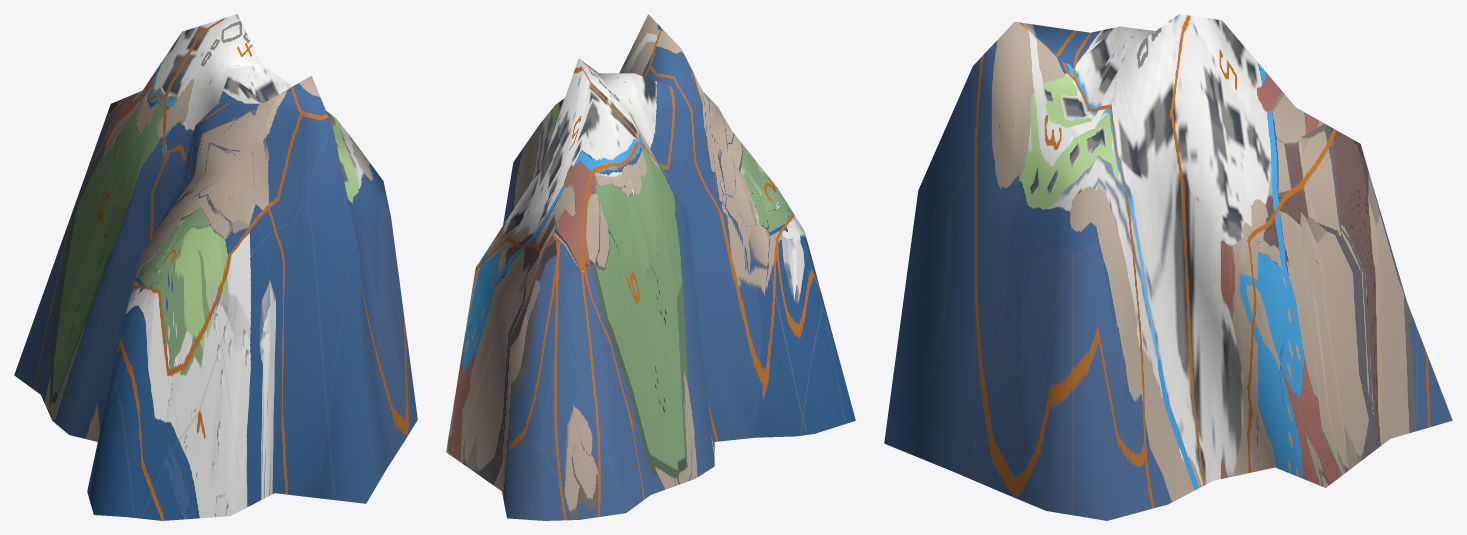
The model's file is mountain.fbx.
3 renders of one model, left to right at view 1: azimuth 30°, elevation 25°; view 2: azimuth 150°, elevation 25°; view 3: azimuth 270°, elevation 25°, orthographic. The views are drawn at different scales.
Parts seen in each view (by area): view 1: mountain; view 2: mountain; view 3: mountain.
Part boxes in pixels (x1,y1,x2,y2): mountain: (14,14,417,520); mountain: (446,14,855,520); mountain: (884,14,1452,520).
Bounding box in the file's own units: 9768 × 10187 × 12117.
